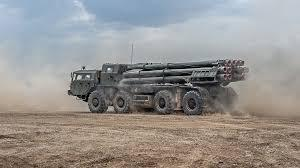MIL_SAM_TEL: (67, 57, 252, 117)
